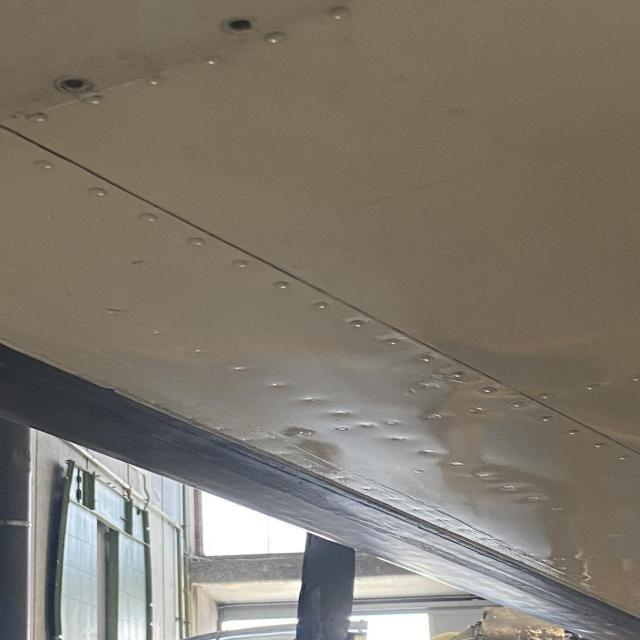Missing-head: (53, 75, 92, 95), (226, 18, 260, 35)
